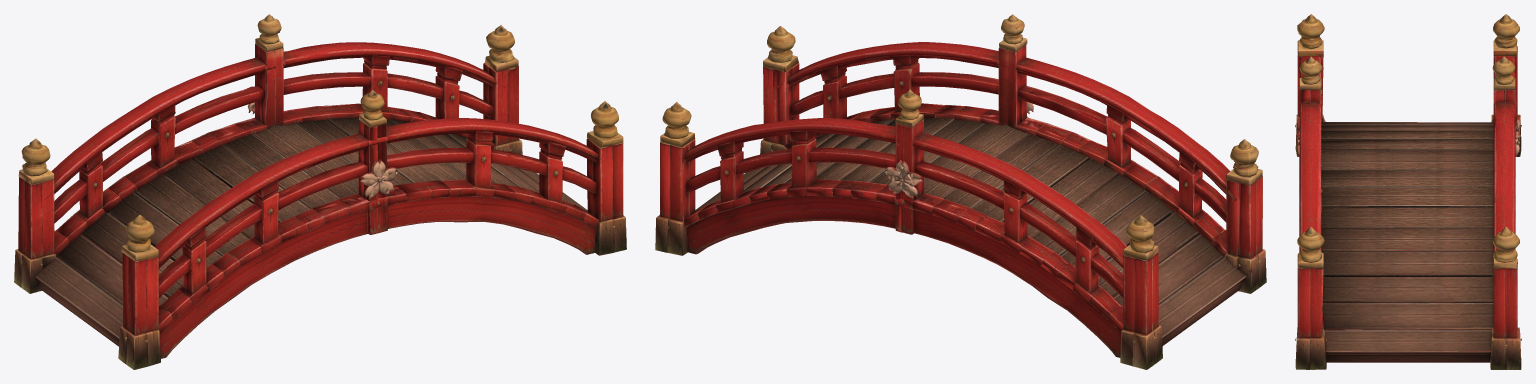
Rendered from Meshy_AI_Crimson_Sakura_Bridge_20261118_texture.fbx.
3 renders of one model, left to right at view 1: azimuth 30°, elevation 25°; view 2: azimuth 150°, elevation 25°; view 3: azimuth 270°, elevation 25°, orthographic. The views are drawn at different scales.
Visible parts, largest first — view 1: Mesh_0; view 2: Mesh_0; view 3: Mesh_0.
Part boxes in pixels (x1,y1,x2,y2): Mesh_0: (14,14,626,369); Mesh_0: (655,14,1266,369); Mesh_0: (1295,14,1521,369).
Bounding box in the file's own units: 94.97 × 39.36 × 40.23.
1 material, 1 textured.
